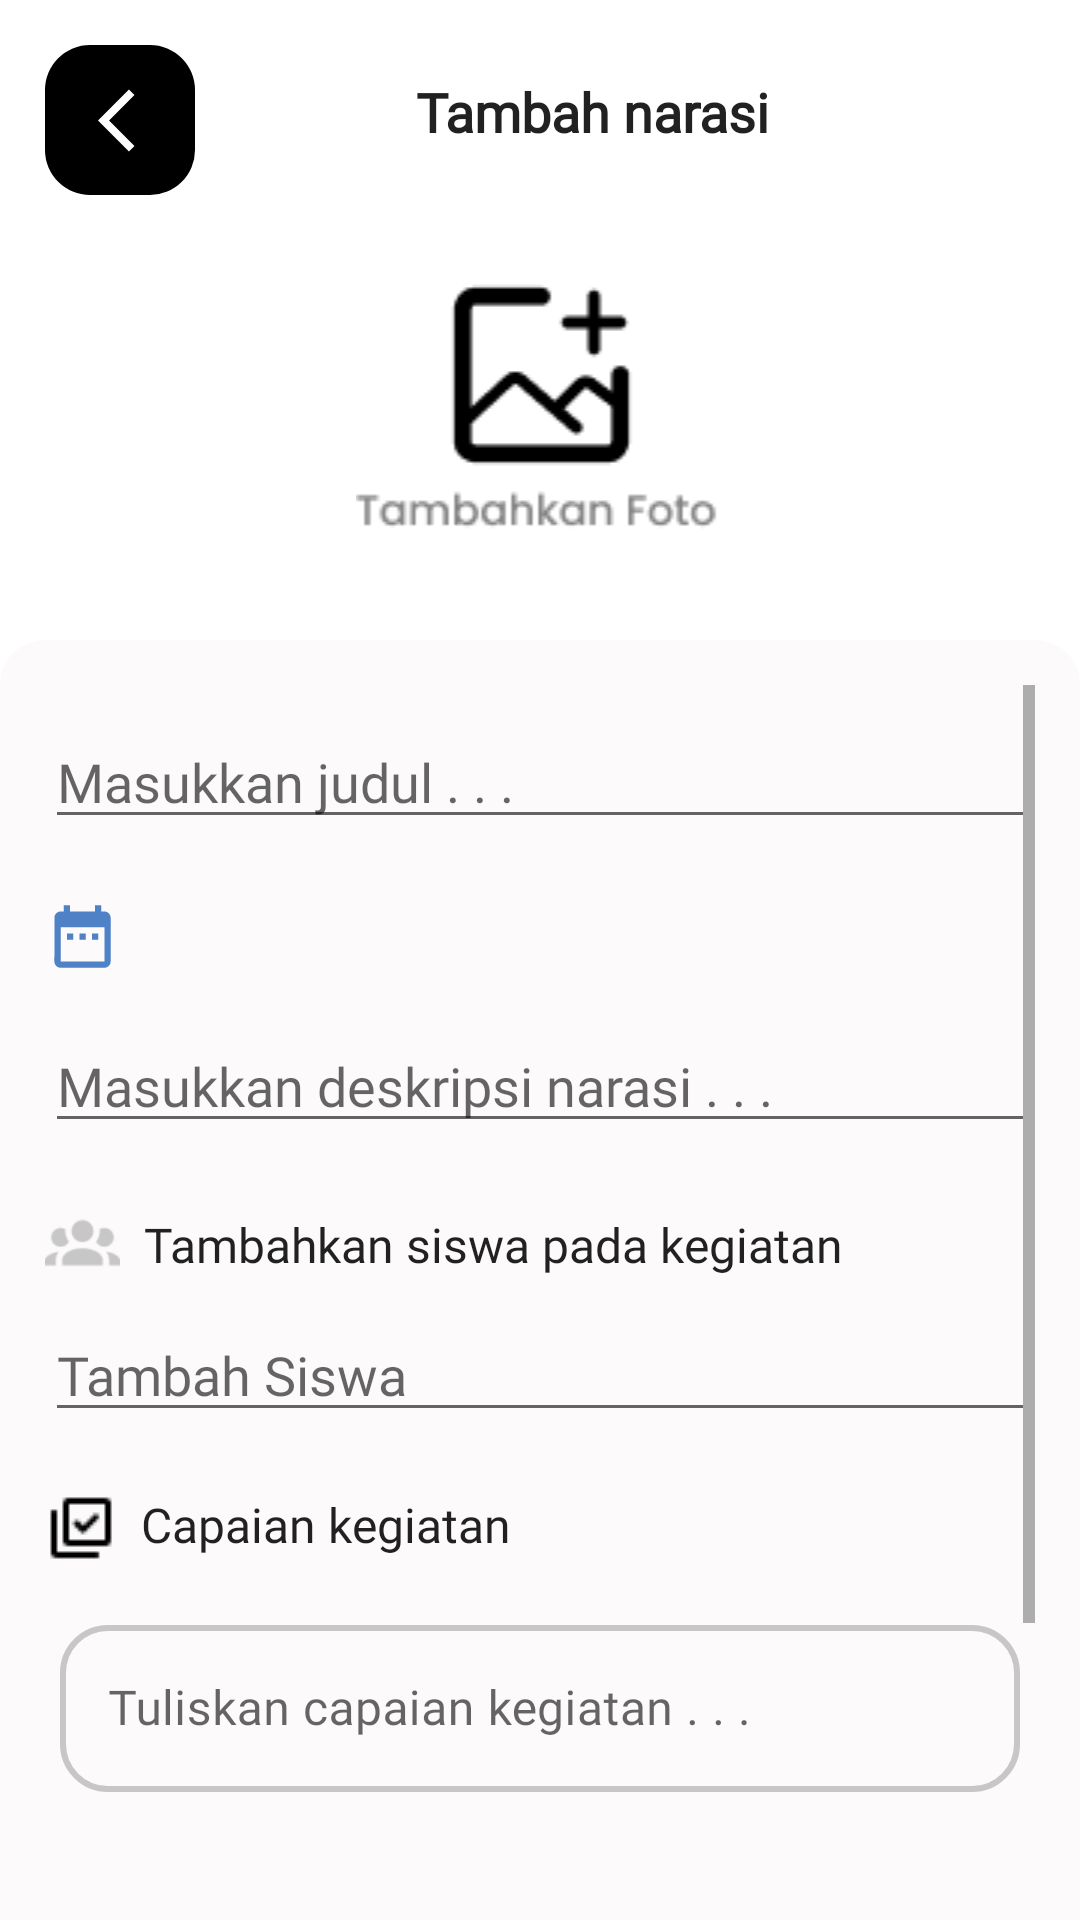

Screen size 1080px x 1920px. Icon name, then its center in pixels as point (x, y):
back: point (116, 120)
date: point (82, 936)
students: point (82, 1243)
